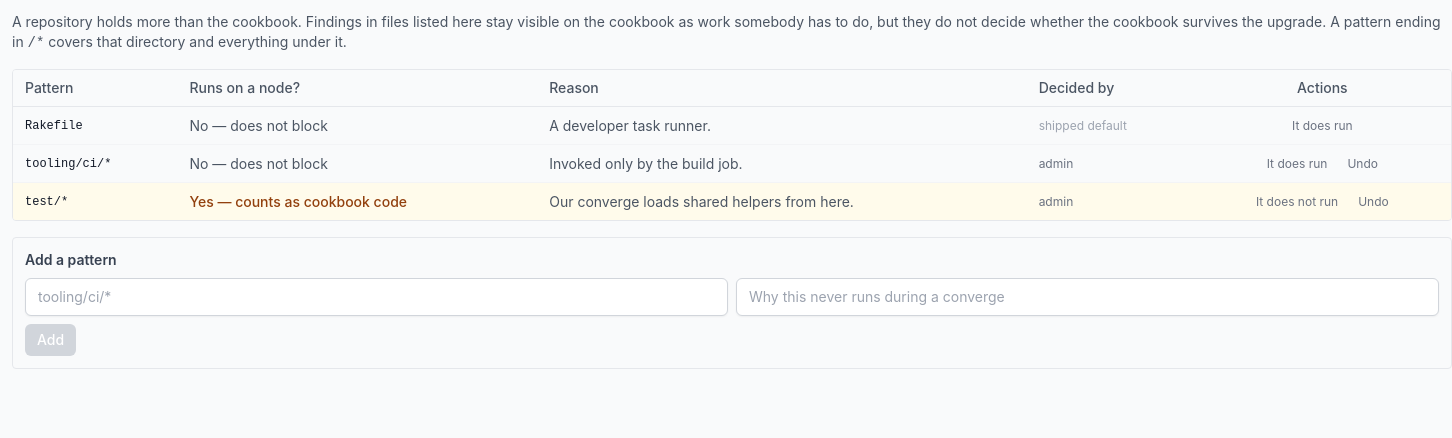
Test: AdminScanScopeSection › reports how many verdicts the decision moved
Expected: the text "Rakefile" is shown, [13,106,177,144]
In the field named "Pattern": (376, 297) [25,278,728,316], type "scripts/build/*"
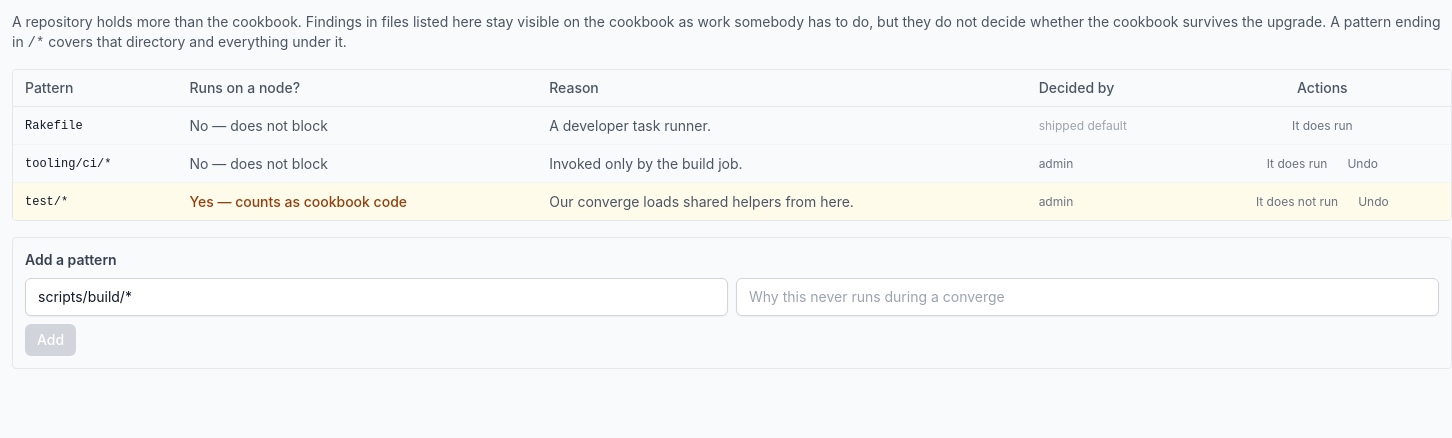
In the field named "Reason": (1088, 297) [736,278,1439,316], type "Run by the build job only."
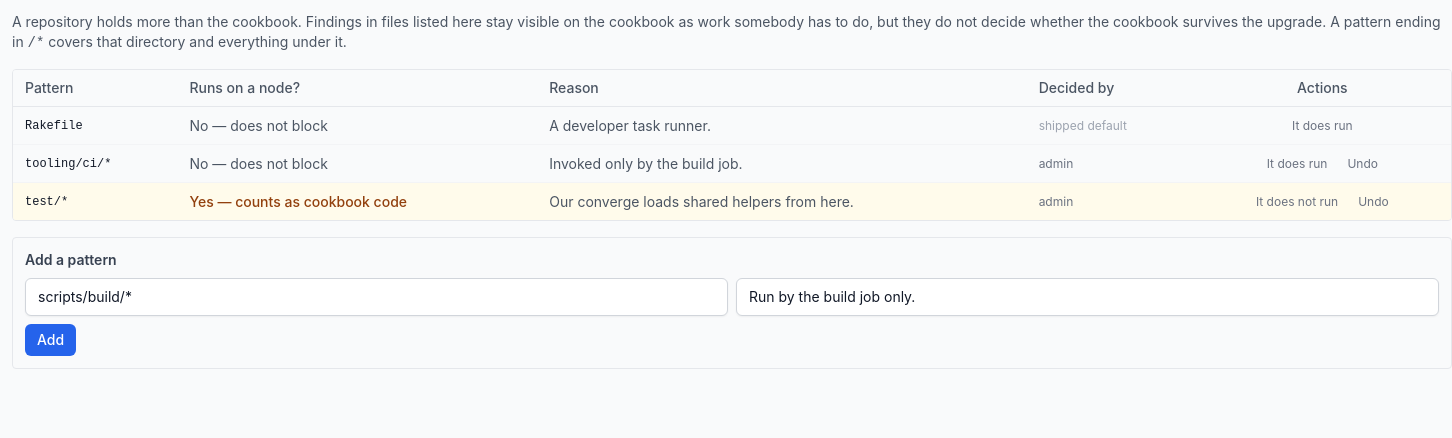
Click the button "Add": click(51, 340) [25,324,76,356]
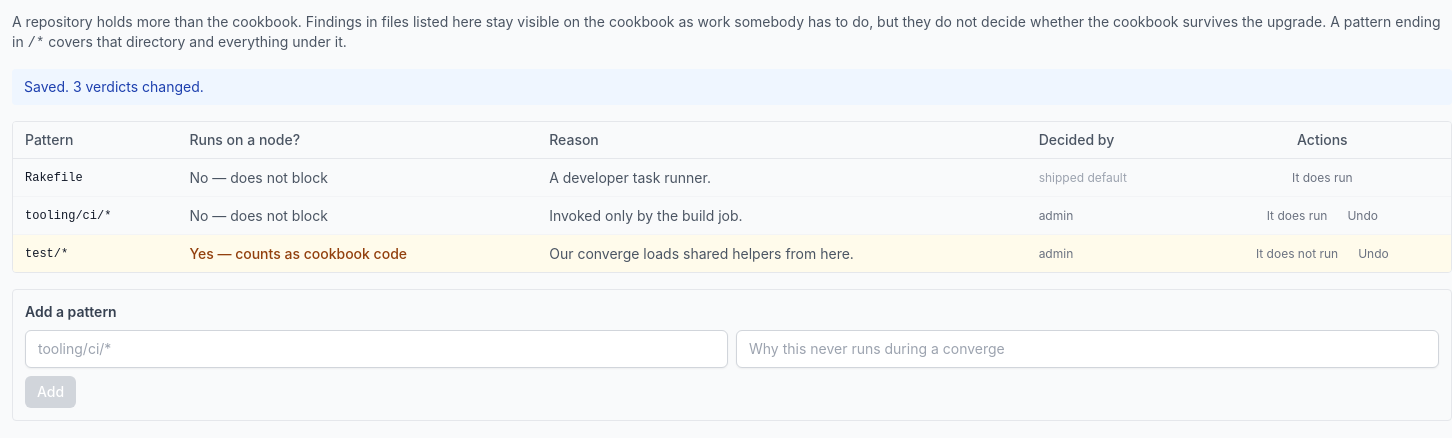
Result: the text "Saved. 3 verdicts changed." is shown at [12,69,1451,105]
